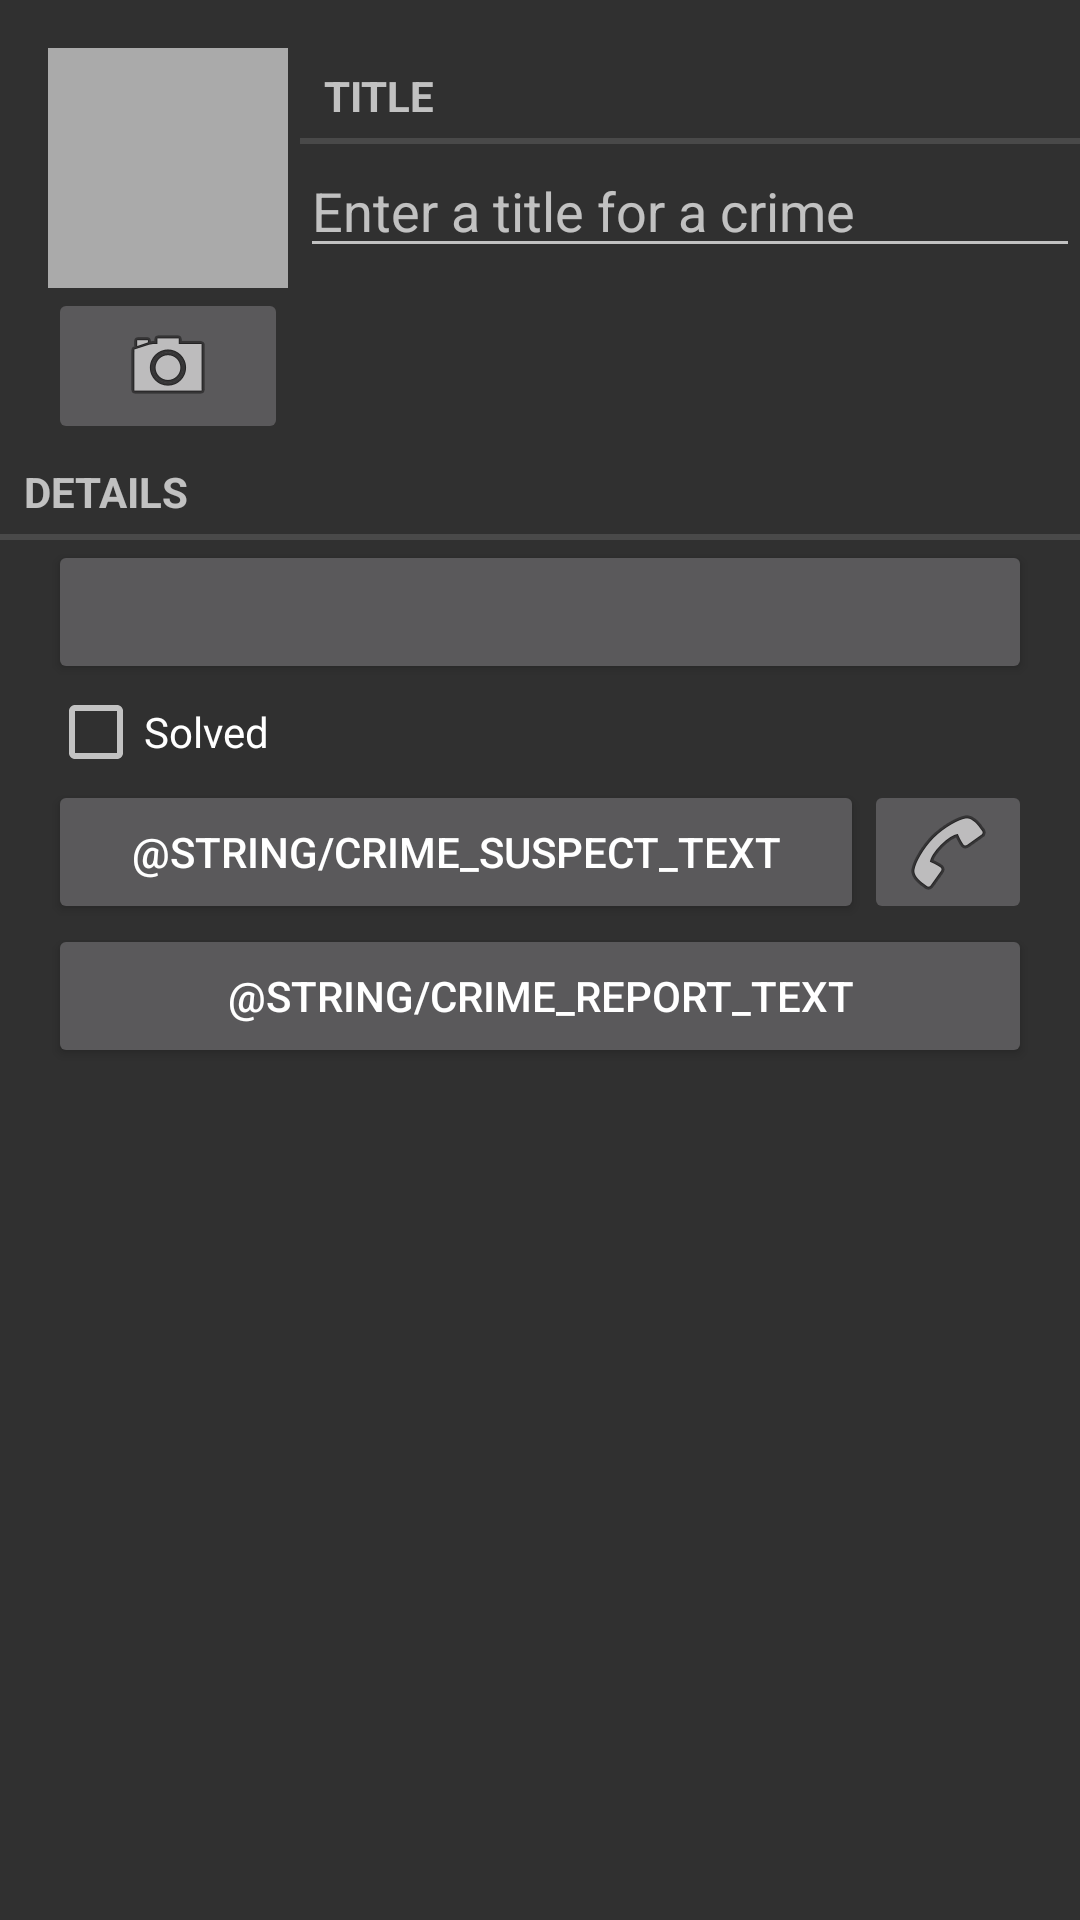

Where icons sit on this 1080 x 1920 app screen, as (x1, y1, x2, y2):
call: (876, 798, 1020, 906)
camera: (60, 306, 276, 426)
